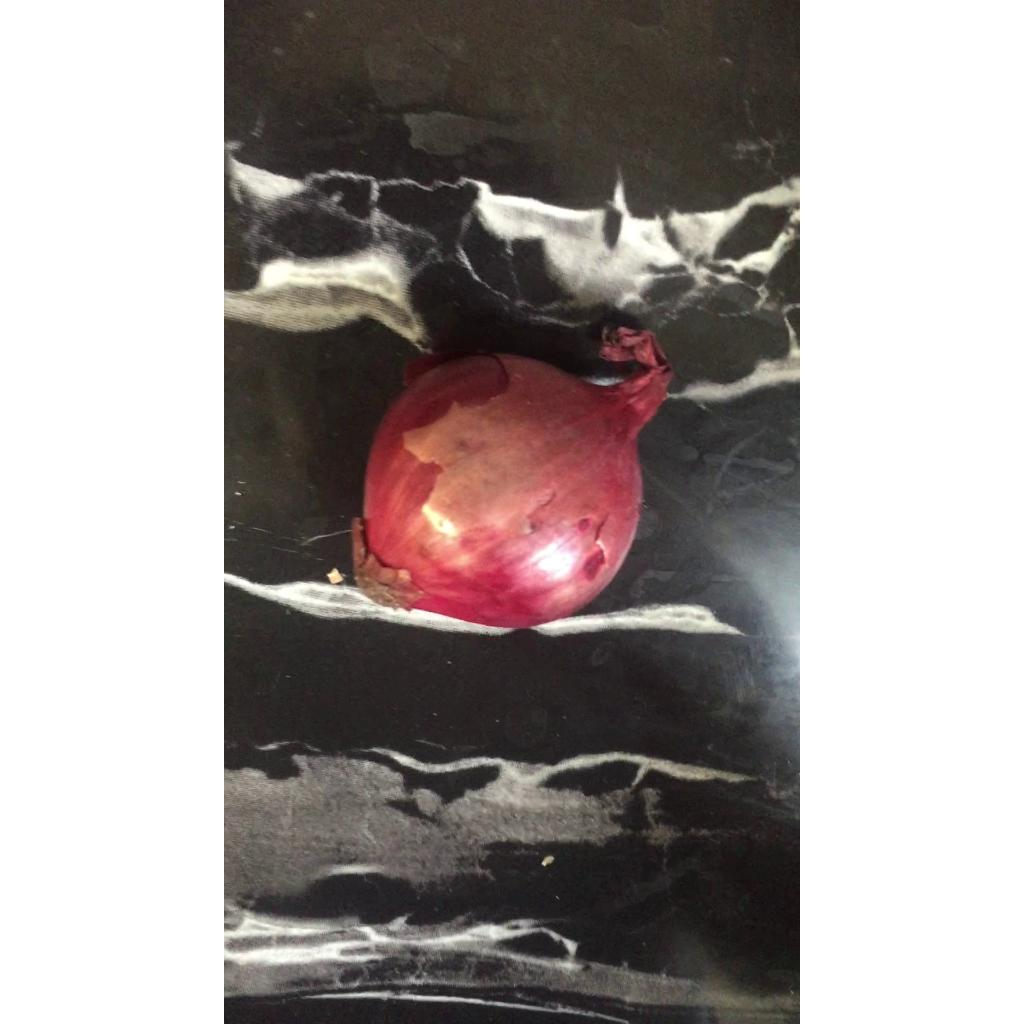Onion: (351, 327, 674, 628)
